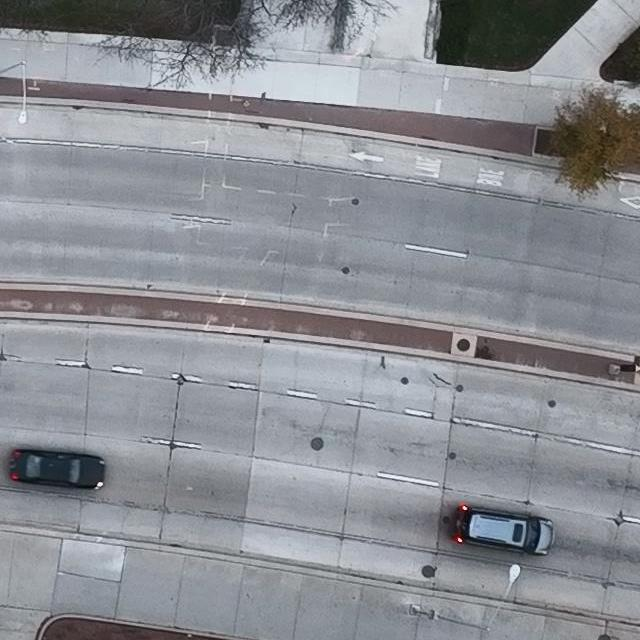car: (448, 504, 556, 557), (7, 447, 105, 491)
